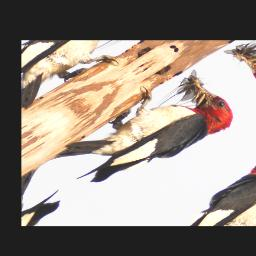Woodpecker: (41, 61, 244, 205)
